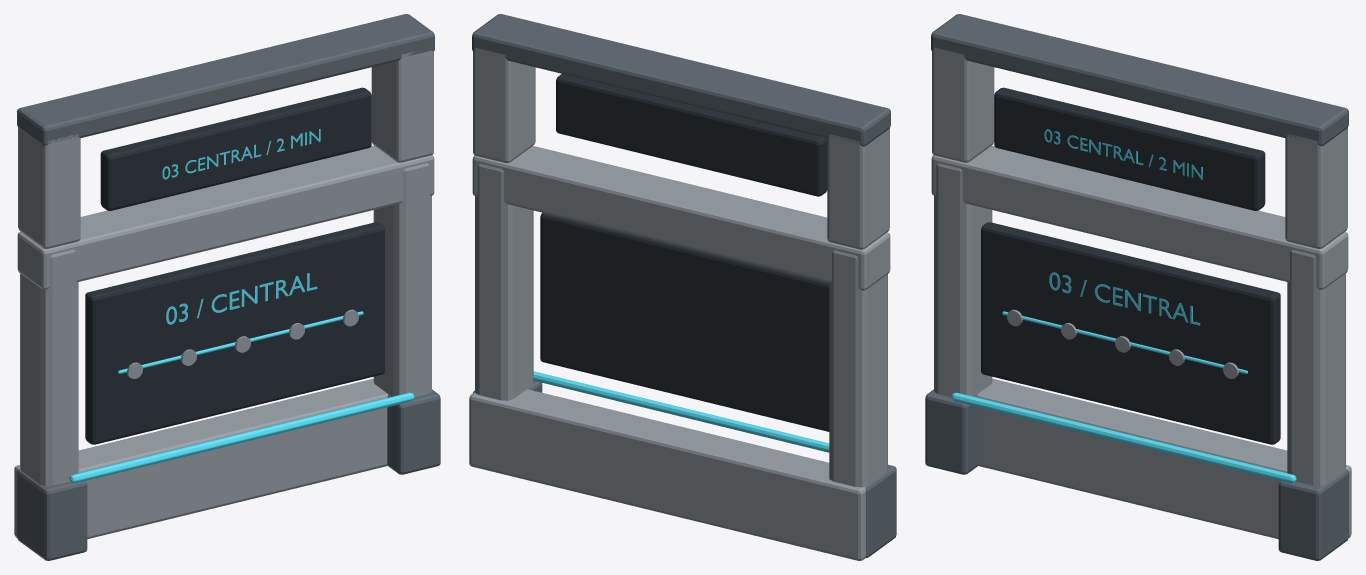
File: 5_WallB.fbx
The picture shows the model from 3 angles, left to right: view 1: azimuth 30°, elevation 25°; view 2: azimuth 150°, elevation 25°; view 3: azimuth 330°, elevation 25°; orthographic projection.
Parts seen in each view (by area): view 1: Body; view 2: Body; view 3: Body.
Part boxes in pixels (x1=…): Body: x1=14, y1=14, x2=440, y2=560; Body: x1=469, y1=14, x2=896, y2=560; Body: x1=925, y1=14, x2=1351, y2=560.
Bounding box in the file's own units: 4.03 × 4.2 × 0.625.
